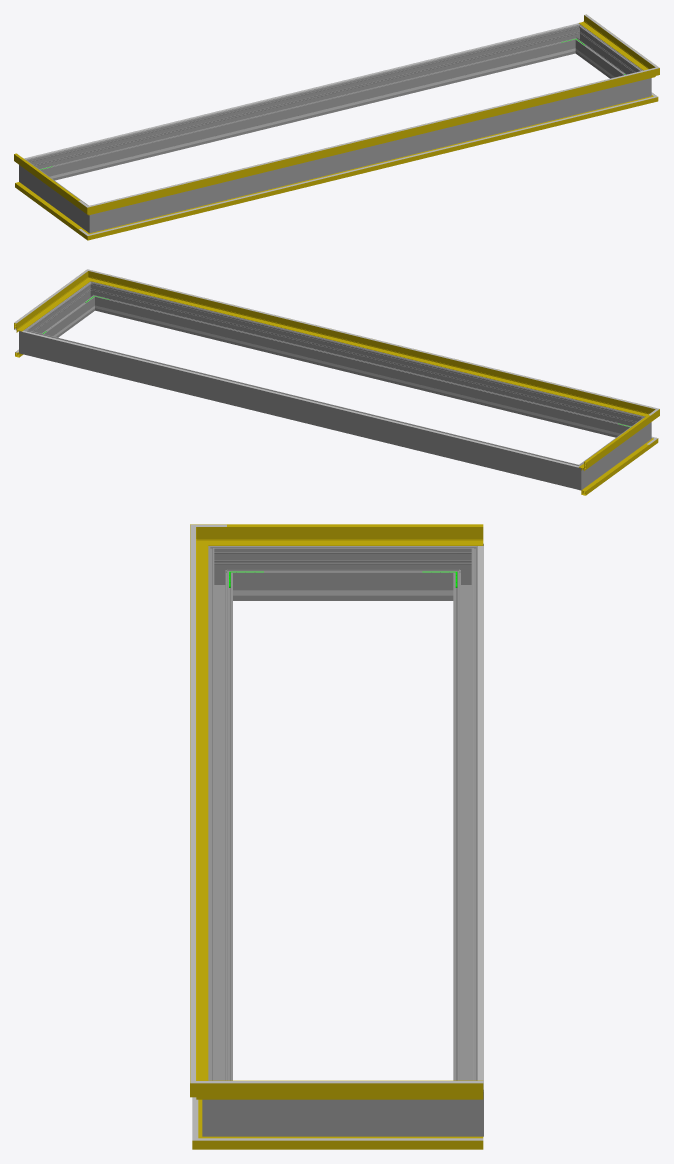
3 views of the same model, one above another, from view 1: azimuth 30°, elevation 25°; view 2: azimuth 150°, elevation 25°; view 3: azimuth 270°, elevation 25° (orthographic). The views are drawn at different scales.
Visible parts, largest first — view 1: 3DGeom-276, 3DGeom-298, 3DGeom-56, 3DGeom-11, 3DGeom-244, 3DGeom-297, 3DGeom-220, 3DGeom-66, 3DGeom-20, 3DGeom-268, 3DGeom-58, 3DGeom-50 (+3 smaller); view 2: 3DGeom-298, 3DGeom-276, 3DGeom-56, 3DGeom-239, 3DGeom-297, 3DGeom-220, 3DGeom-66, 3DGeom-268, 3DGeom-58, 3DGeom-278, 3DGeom-50, 3DGeom-6 (+2 smaller); view 3: 3DGeom-298, 3DGeom-276, 3DGeom-268, 3DGeom-297, 3DGeom-56, 3DGeom-50, 3DGeom-58, 3DGeom-16, 3DGeom-220, 3DGeom-66, 3DGeom-284, 3DGeom-290 (+3 smaller).
Boxes of the visible parts, x1,y1,x2,y2 form: 3DGeom-276: (36,27,572,180); 3DGeom-298: (105,82,635,229); 3DGeom-56: (101,72,643,211); 3DGeom-11: (101,99,642,236); 3DGeom-244: (55,52,560,177); 3DGeom-297: (577,30,639,78); 3DGeom-220: (24,23,579,159); 3DGeom-66: (102,71,643,203); 3DGeom-20: (102,100,641,232); 3DGeom-268: (28,165,85,226); 3DGeom-58: (579,15,647,69); 3DGeom-50: (14,154,77,207); 3DGeom-298: (97,284,634,437); 3DGeom-276: (35,333,567,486); 3DGeom-56: (99,274,642,414); 3DGeom-239: (110,309,615,434); 3DGeom-297: (31,287,93,337); 3DGeom-220: (22,330,579,467); 3DGeom-66: (102,273,643,405); 3DGeom-268: (585,422,642,483); 3DGeom-58: (14,277,85,332); 3DGeom-278: (565,460,590,490); 3DGeom-50: (579,416,650,470); 3DGeom-6: (581,444,649,495); 3DGeom-298: (208,559,232,1080); 3DGeom-276: (453,559,477,1080); 3DGeom-268: (239,546,447,600); 3DGeom-297: (239,1099,447,1136); 3DGeom-56: (190,540,208,1080); 3DGeom-50: (226,524,483,545); 3DGeom-58: (226,1080,483,1099); 3DGeom-16: (229,1136,483,1149); 3DGeom-220: (478,546,483,1089); 3DGeom-66: (190,540,195,1067); 3DGeom-284: (447,1076,483,1136); 3DGeom-290: (202,1076,238,1136).
Bounding box in the file's own units: 5.49 × 0.307 × 1.22.
